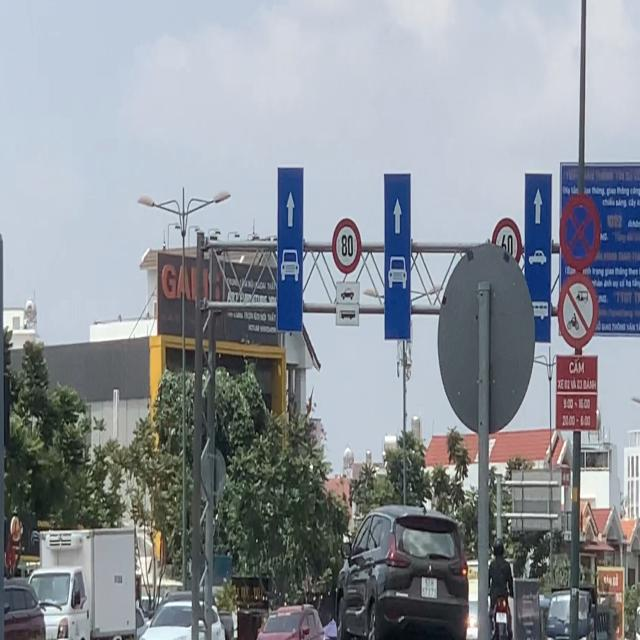Cam con lai: (558, 274, 599, 348)
Cam dung va do: (559, 193, 601, 270)
Toc do toi da: (332, 218, 362, 274), (491, 217, 522, 270)
